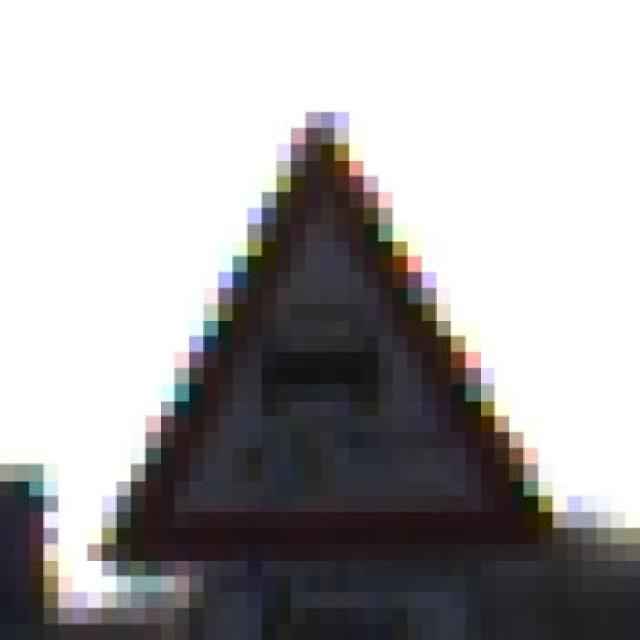Slippery Road Ahead: (87, 112, 567, 576)
